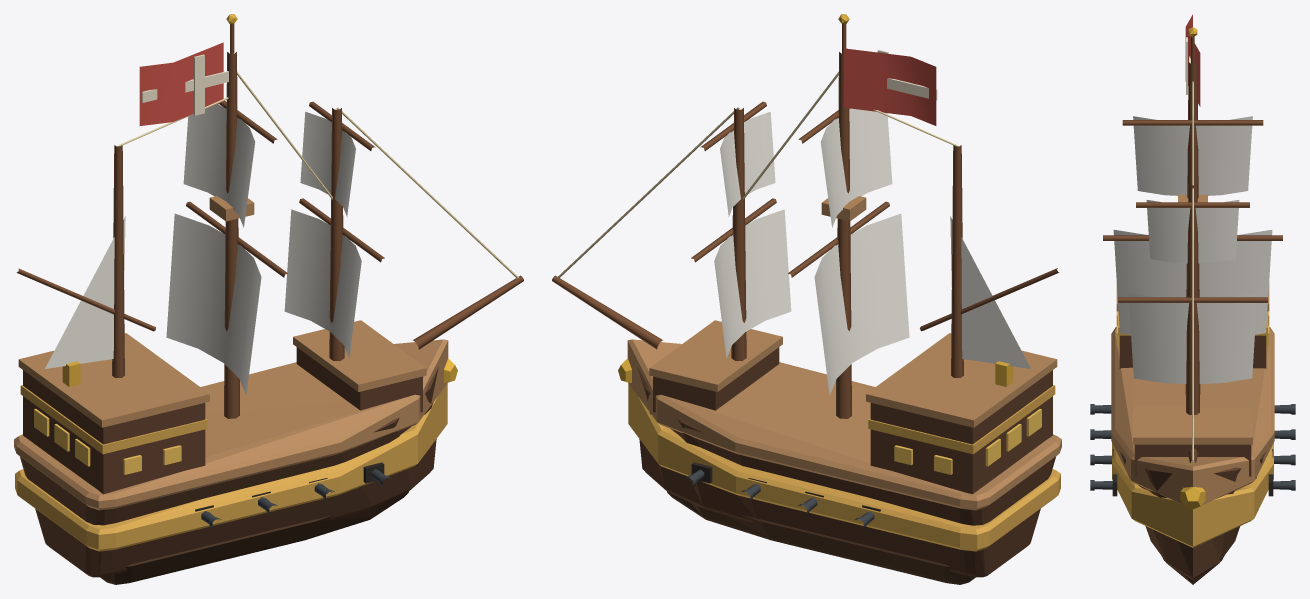
File: war_galleon.glb
3 views of the same model, side by side, from view 1: azimuth 30°, elevation 25°; view 2: azimuth 150°, elevation 25°; view 3: azimuth 270°, elevation 25° (orthographic). The views are drawn at different scales.
Visible parts, largest first — view 1: hull_rail, hull, gun_band, mast_main_sail_0, stern_castle, stern_castle_rail, mast_fore_sail_0, mast_main_sail_1, hull_bottom, forecastle_rail, mast_mizzen_sail, flag (+11 smaller); view 2: hull_rail, hull, gun_band, mast_main_sail_0, stern_castle, stern_castle_rail, mast_fore_sail_0, mast_main_sail_1, flag, hull_bottom, forecastle_rail, mast_mizzen_sail (+10 smaller); view 3: hull_rail, mast_fore_sail_0, mast_main_sail_0, mast_main_sail_1, gun_band, mast_fore_sail_1, forecastle_rail, hull, mast_fore, forecastle, mast_main, stern_castle (+7 smaller).
Boxes of the visible parts, <box> form: hull_rail: <box>14,339,448,510</box>; hull: <box>20,367,438,577</box>; gun_band: <box>15,383,447,551</box>; mast_main_sail_0: <box>166,213,261,395</box>; stern_castle: <box>23,370,205,494</box>; stern_castle_rail: <box>18,333,209,427</box>; mast_fore_sail_0: <box>284,209,361,358</box>; mast_main_sail_1: <box>183,104,255,227</box>; hull_bottom: <box>100,492,408,584</box>; forecastle_rail: <box>293,320,426,391</box>; mast_mizzen_sail: <box>45,216,125,368</box>; flag: <box>139,42,223,125</box>; hull_rail: <box>627,339,1061,510</box>; hull: <box>637,367,1055,577</box>; gun_band: <box>628,383,1060,551</box>; mast_main_sail_0: <box>814,213,909,395</box>; stern_castle: <box>870,370,1052,494</box>; stern_castle_rail: <box>866,333,1057,427</box>; mast_fore_sail_0: <box>714,209,791,358</box>; mast_main_sail_1: <box>820,108,892,227</box>; flag: <box>844,48,936,125</box>; hull_bottom: <box>667,492,975,584</box>; forecastle_rail: <box>649,320,782,391</box>; mast_mizzen_sail: <box>950,216,1030,368</box>; hull_rail: <box>1111,327,1274,504</box>; mast_fore_sail_0: <box>1128,293,1257,383</box>; mast_main_sail_0: <box>1113,229,1272,334</box>; mast_main_sail_1: <box>1133,116,1252,195</box>; gun_band: <box>1112,443,1273,547</box>; mast_fore_sail_1: <box>1146,200,1239,263</box>; forecastle_rail: <box>1133,407,1252,444</box>; hull: <box>1119,451,1266,579</box>; mast_fore: <box>1186,184,1199,414</box>; forecastle: <box>1134,444,1251,476</box>; mast_main: <box>1185,62,1200,394</box>; stern_castle: <box>1119,335,1266,368</box>.
Size of the model in its own units: 3.57 by 3.53 by 1.37.
